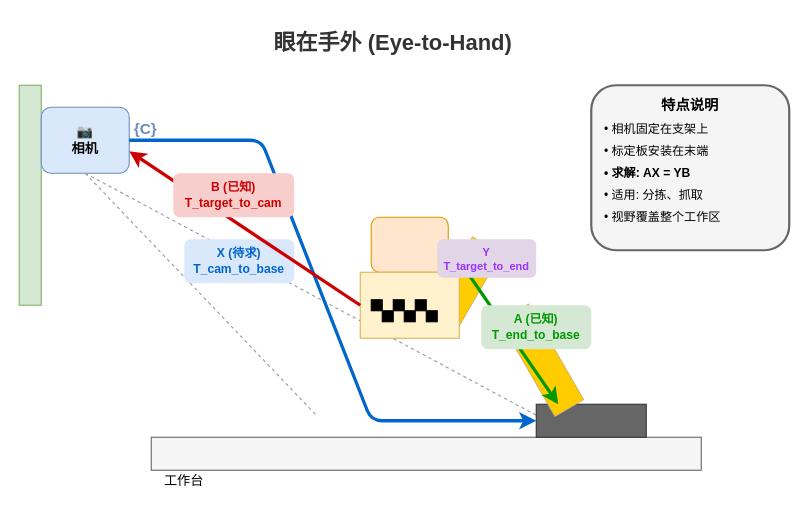
Image size: 810x510. Some labels were removed from this diagram. The shapes that lost their labels are listed below. From the top down, each one's centre as x and y in pixels, then its label:
(409,244): 末端 {E}
(409,304): 标定板 {T}
(590,420): 基座 {B}
